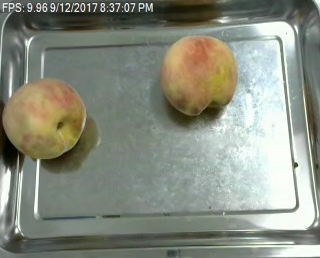Peach: (3, 78, 87, 160), (161, 34, 237, 117)
